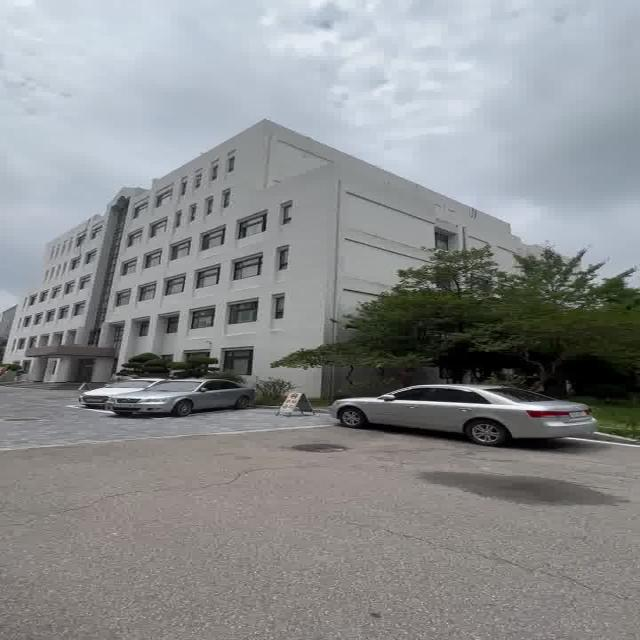building: (16, 124, 347, 367)
